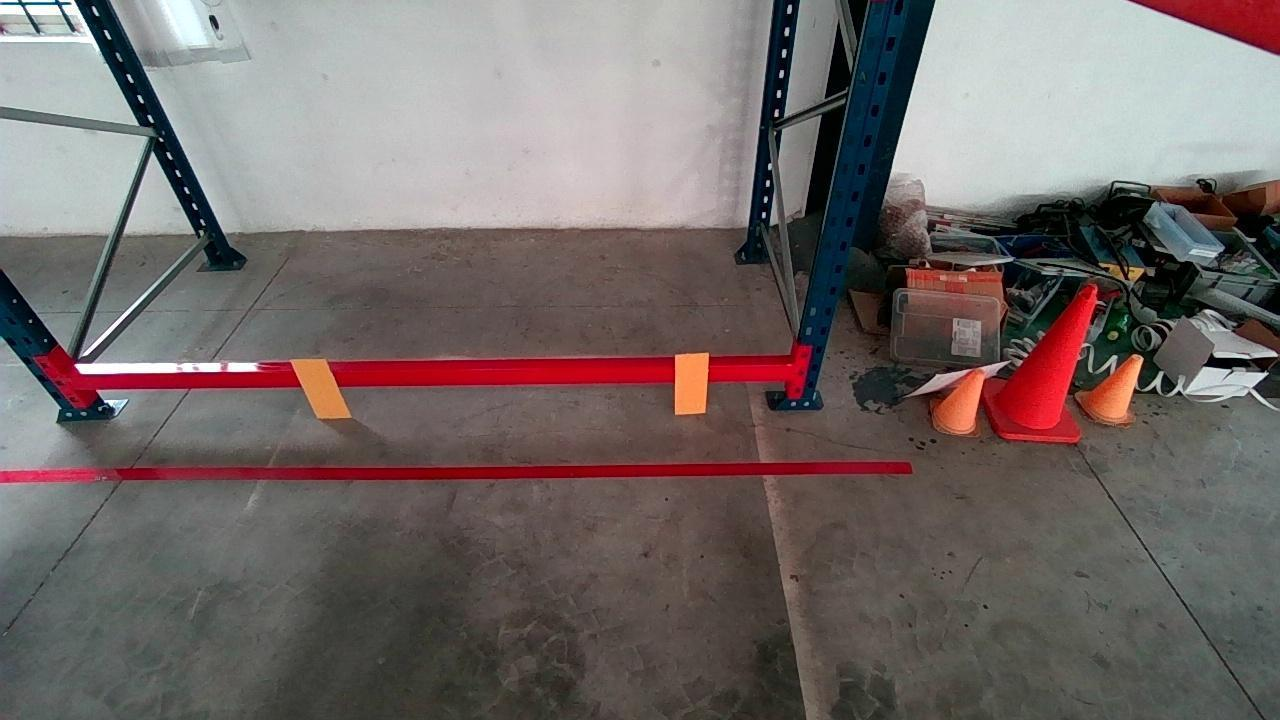h_rack: (61, 357, 791, 393)
orange_strip: (292, 358, 350, 417), (675, 352, 709, 412)
red_line: (0, 460, 913, 482)
